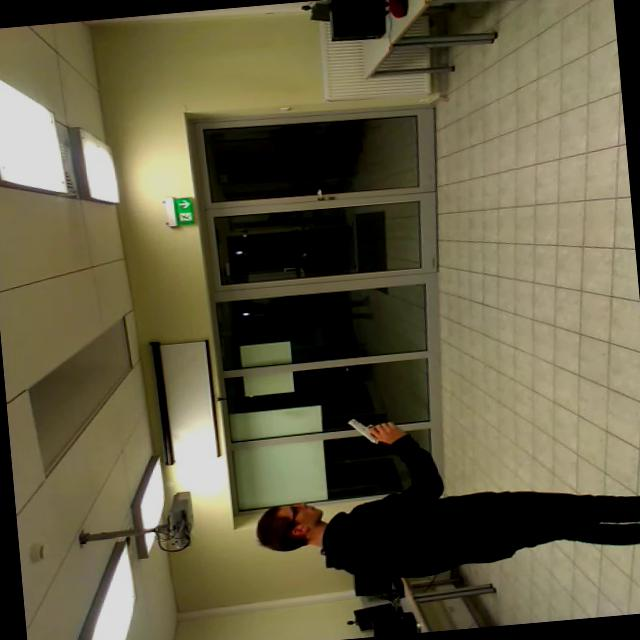handgun: (338, 406, 400, 452)
